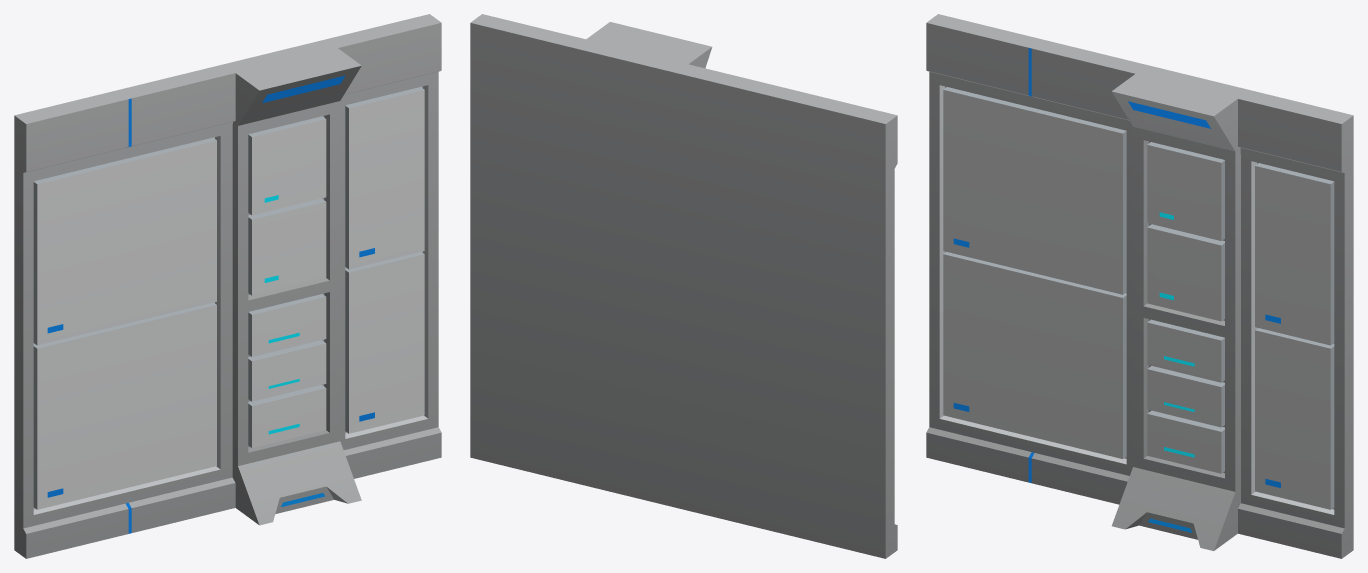
File: Wall_type_A_009.glb
3 views of the same model, side by side, from view 1: azimuth 30°, elevation 25°; view 2: azimuth 150°, elevation 25°; view 3: azimuth 330°, elevation 25° (orthographic).
Parts seen in each view (by area): view 1: Wall_type_A_009; view 2: Wall_type_A_009; view 3: Wall_type_A_009.
Boxes of the visible parts, box(x1,y1,x2,y2) form: Wall_type_A_009: box(14, 14, 441, 558); Wall_type_A_009: box(470, 14, 897, 558); Wall_type_A_009: box(926, 14, 1353, 558).
Size of the model in its own units: 4 by 4 by 0.6.
2 materials, 2 textured.
